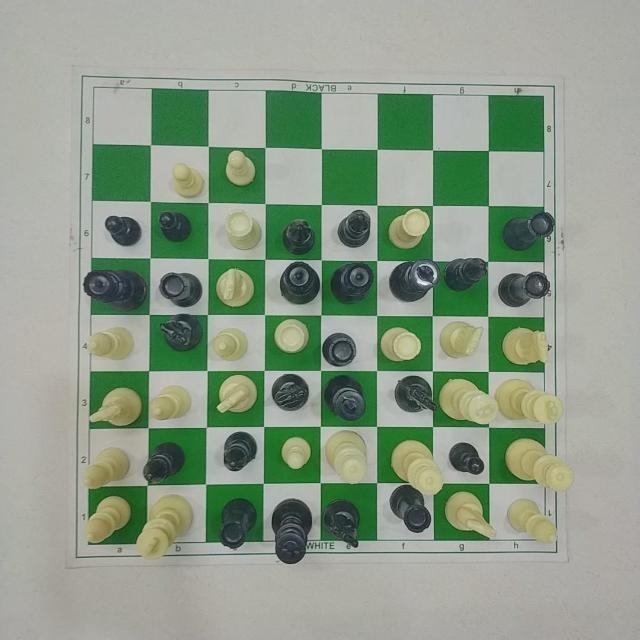black-bishop: (138, 437, 187, 485), (443, 253, 491, 295), (221, 427, 261, 473), (281, 213, 319, 259), (338, 203, 374, 250)
black-king: (267, 491, 317, 566), (386, 256, 441, 305), (324, 371, 370, 423)
black-knight: (321, 496, 364, 548), (157, 311, 205, 357), (269, 371, 314, 413), (392, 373, 436, 415)
black-pawn: (99, 213, 146, 248), (154, 211, 200, 245), (448, 440, 488, 478)
black-queen: (79, 265, 150, 312), (275, 256, 323, 307), (328, 259, 376, 307)
black-rook: (216, 493, 259, 554), (500, 207, 558, 252), (496, 267, 552, 310), (387, 484, 431, 534), (158, 267, 204, 307), (320, 329, 358, 369)
white-bishop: (506, 494, 564, 552), (78, 438, 134, 491), (84, 496, 131, 546), (147, 377, 190, 425), (84, 324, 138, 362), (209, 324, 252, 361)
white-king: (131, 490, 194, 559), (496, 377, 565, 425), (437, 377, 498, 429)
white-knight: (444, 489, 496, 539), (87, 385, 143, 429), (500, 323, 550, 366), (214, 264, 260, 310), (436, 319, 485, 361), (213, 372, 257, 416)
white-pawn: (169, 160, 207, 199), (222, 149, 259, 189), (279, 433, 311, 471)
white-queen: (505, 436, 575, 492), (389, 435, 447, 494), (324, 429, 374, 484)
white-rook: (383, 206, 433, 250), (220, 207, 264, 253), (378, 321, 424, 364), (273, 315, 310, 358)
